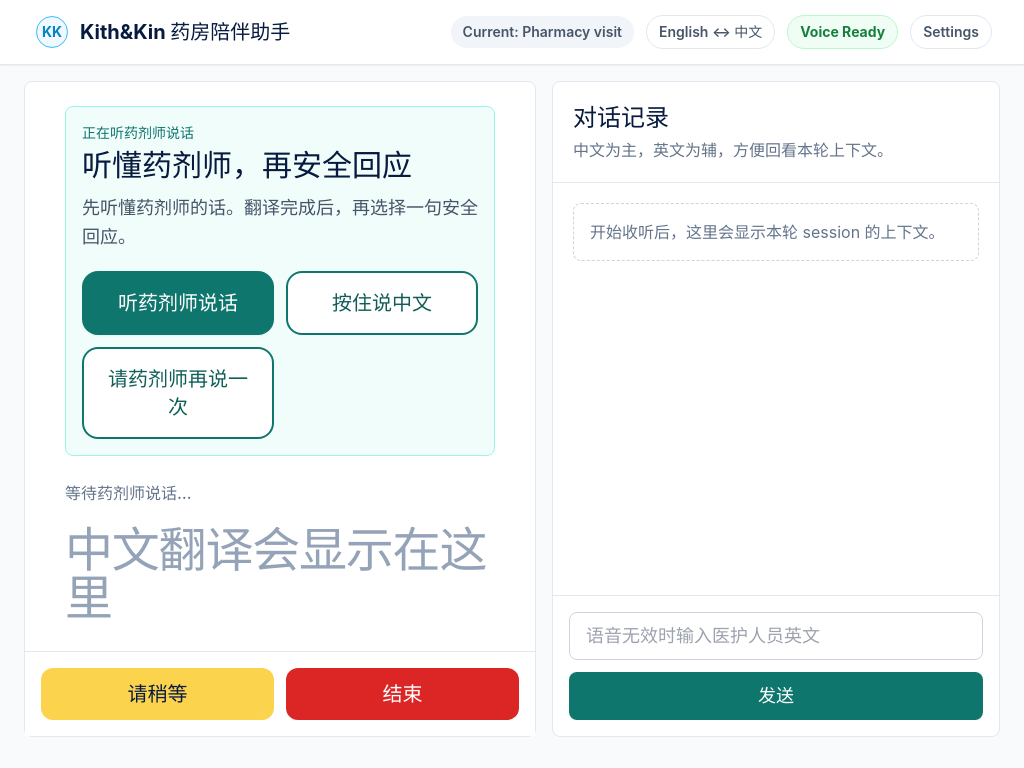
Test: ConversationPage › toggles trace visibility via hidden dev switch
Expected: the text "安全检查详情" is not shown
Click hidden toggle in StatusBar
Click the button with test id "dev-mode-toggle": [163, 32] box [32, 12, 294, 52]
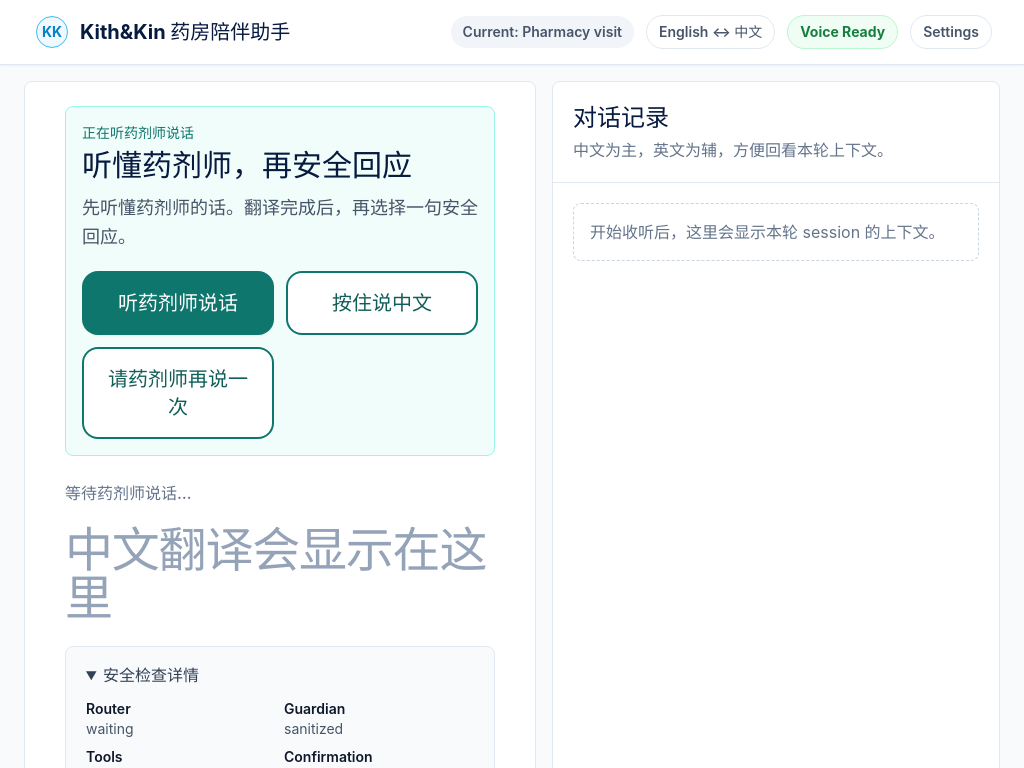
Result: the heading "安全检查详情" is shown at [103, 665, 199, 685]
